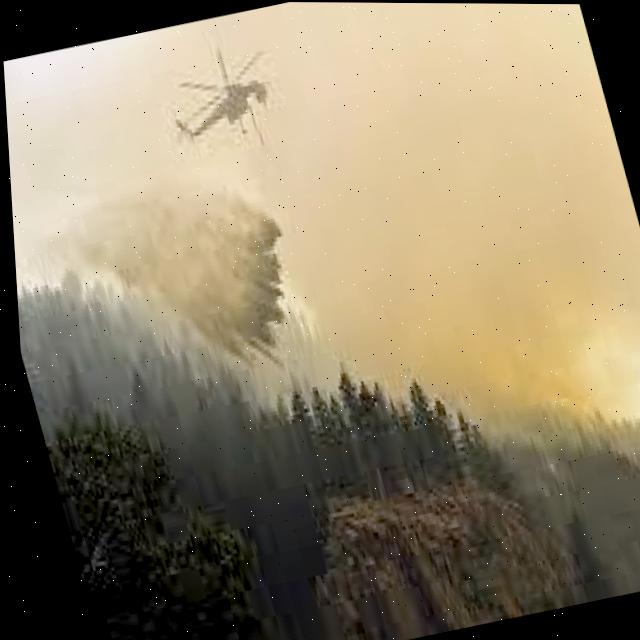smoke: (79, 3, 640, 462)
